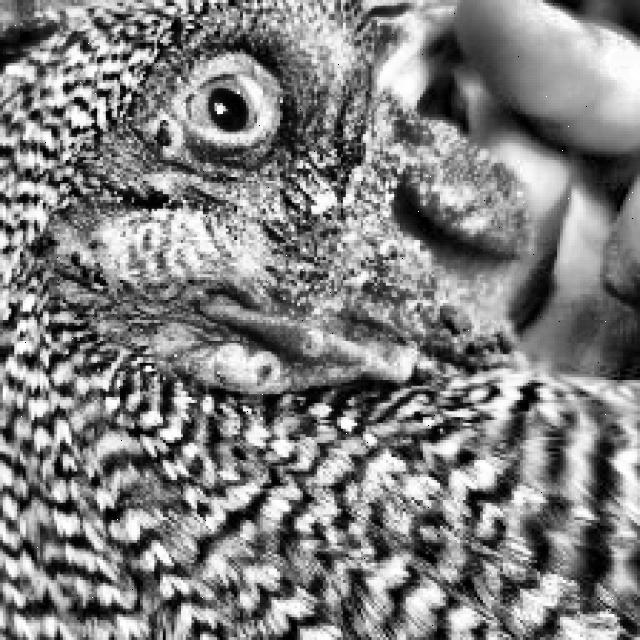Fowlpox: (66, 78, 552, 406)
